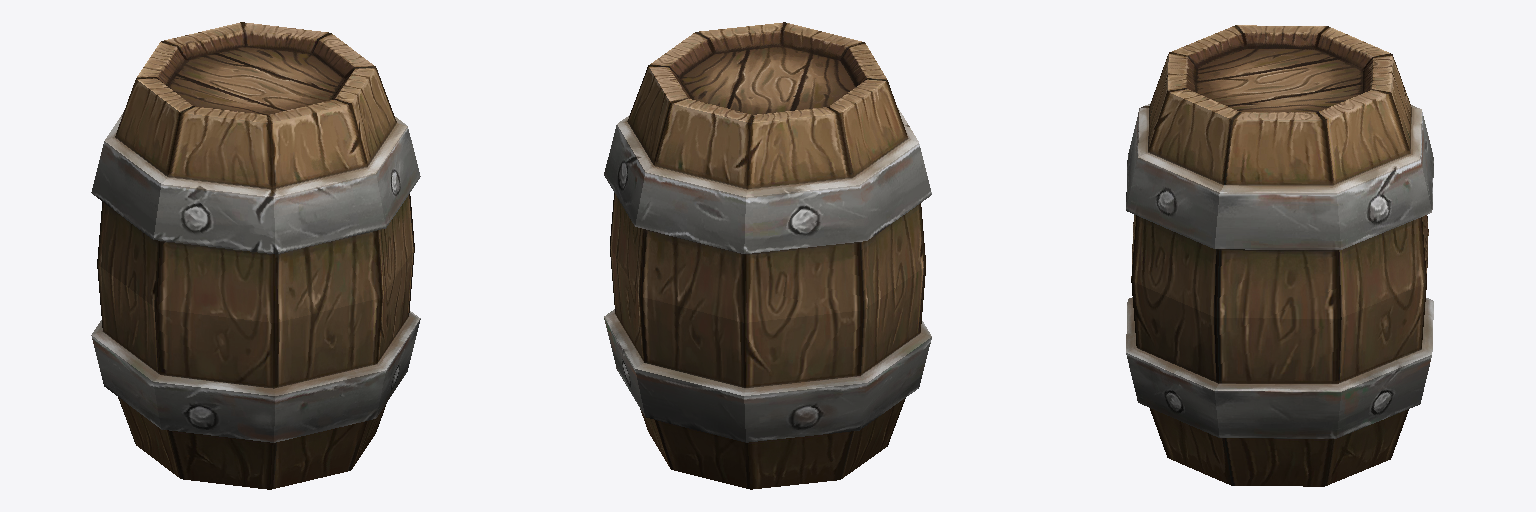
The picture shows the model from 3 angles: view 1: azimuth 30°, elevation 25°; view 2: azimuth 150°, elevation 25°; view 3: azimuth 270°, elevation 25°; orthographic projection.
Parts seen in each view (by area): view 1: pCylinder4; view 2: pCylinder4; view 3: pCylinder4.
Part boxes in pixels (bbox=[...]): pCylinder4: bbox=[91, 22, 420, 489]; pCylinder4: bbox=[604, 22, 931, 489]; pCylinder4: bbox=[1126, 25, 1433, 486].
Size of the model in its own units: 60.15 by 78.86 by 60.15.
Materials: 1 (1 with a texture image).